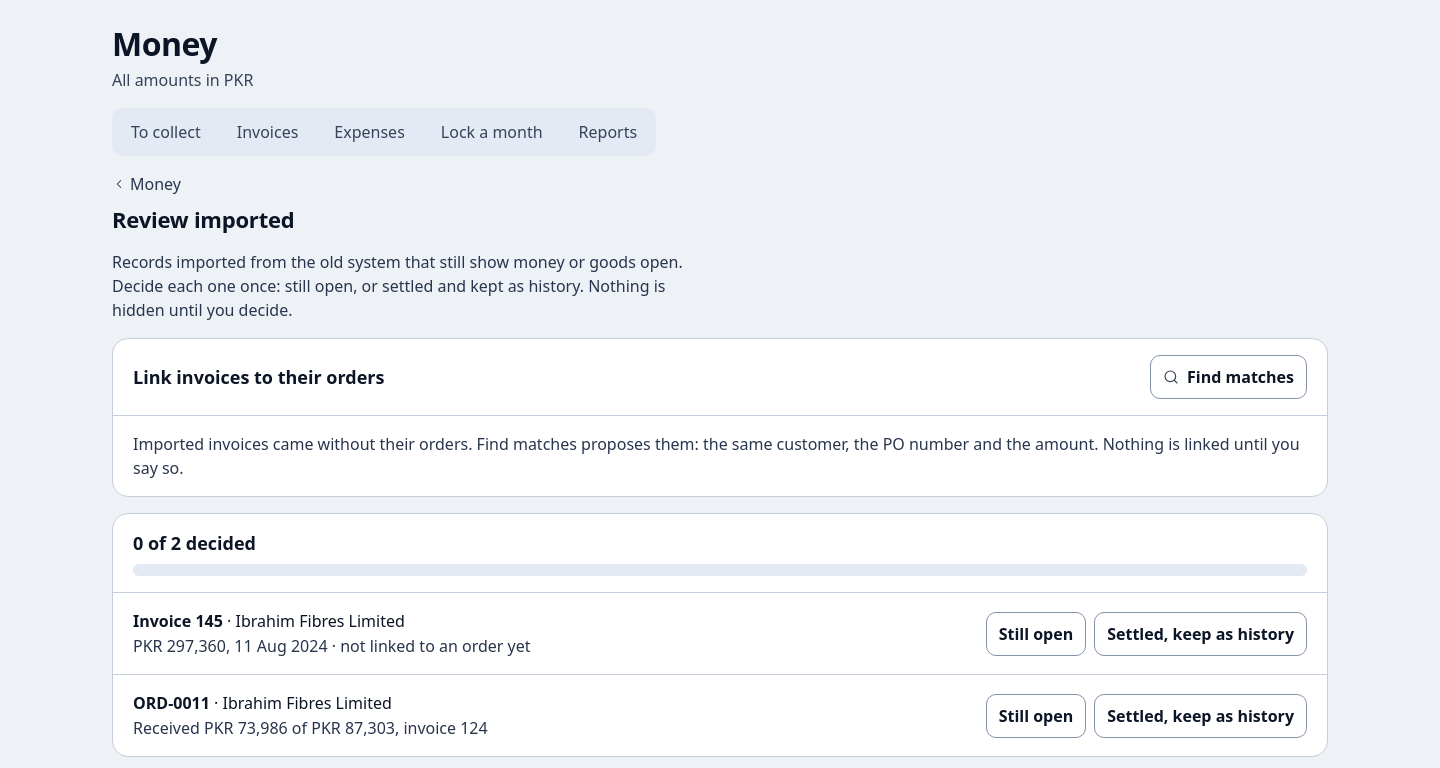
Test: Review imported page › "Link all certain" does not link a certain proposal the owner turned down with Not this
Check: the list with test id "review-list" is shown, box [113,593,1327,756]
Click the button "Find matches". click: (1229, 377)
box: [1150,355,1307,399]
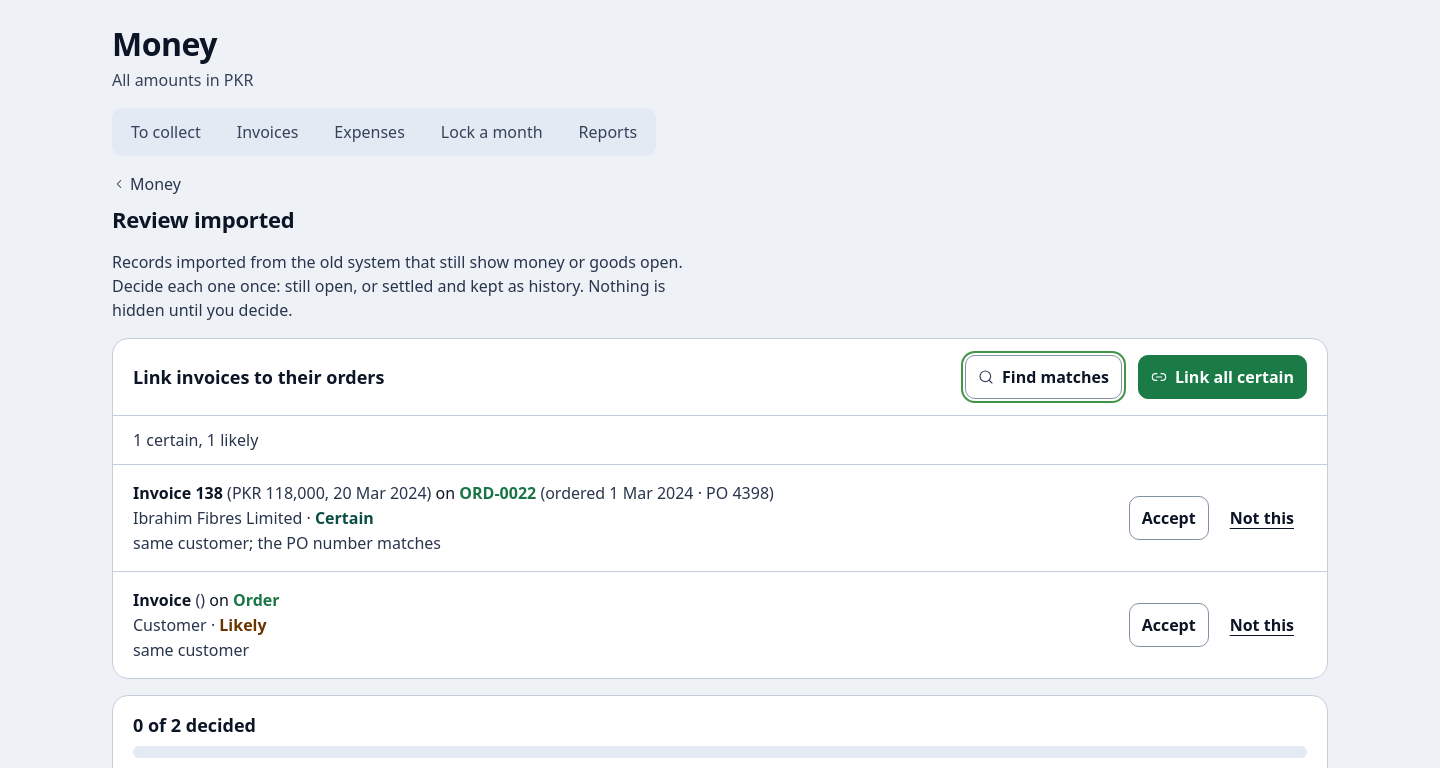
Click the button "Not this" in the row of "Invoice 138". click: (1262, 518)
box: [1217,496,1307,540]
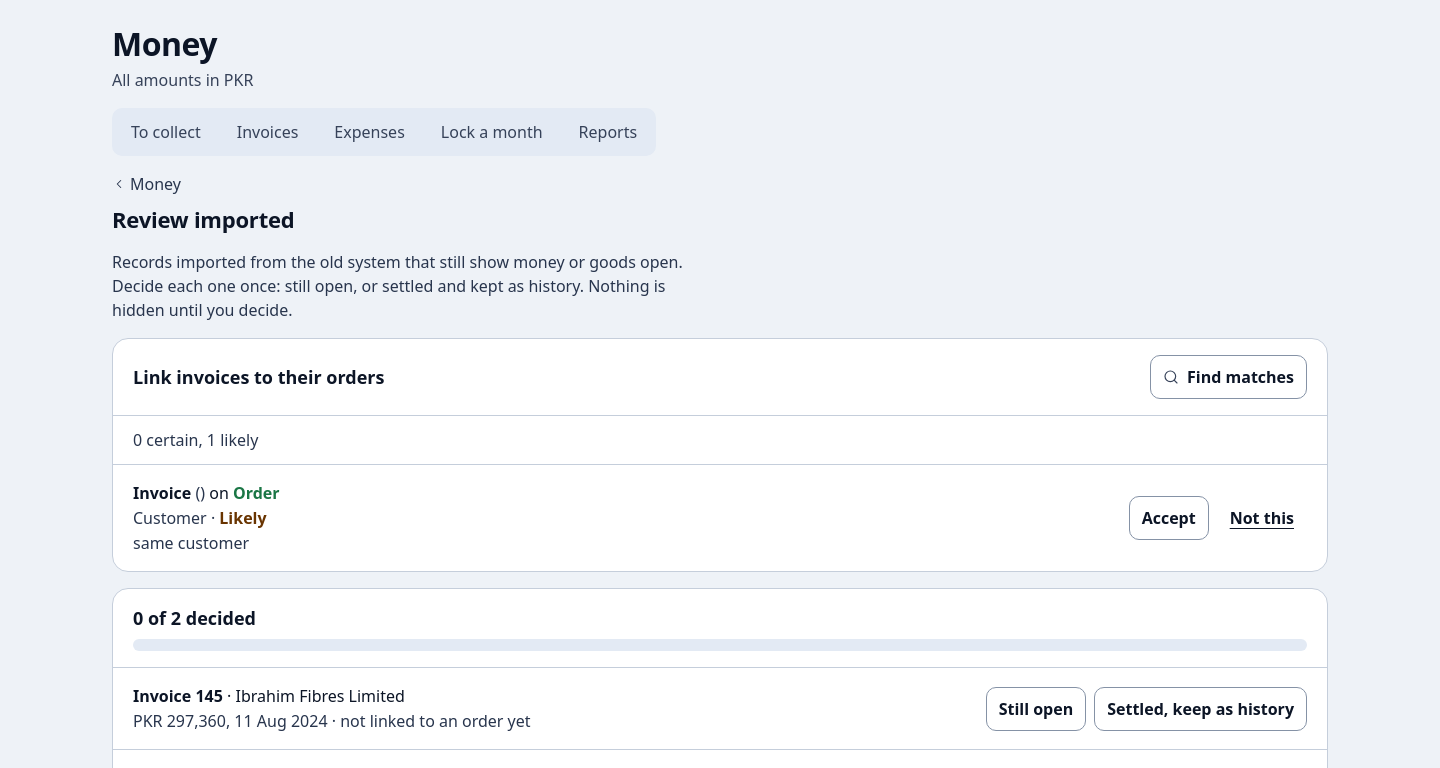
Check: the button "Link all certain" is gone
